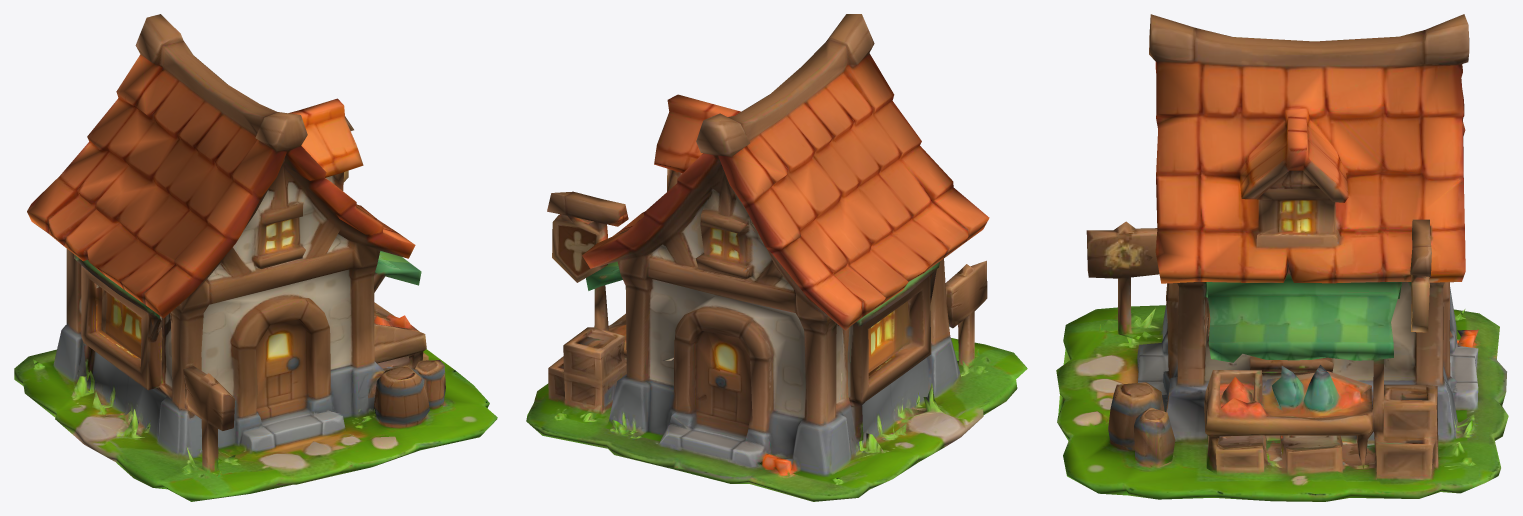
The model's file is Market.glb.
3 renders of one model, left to right at view 1: azimuth 30°, elevation 25°; view 2: azimuth 150°, elevation 25°; view 3: azimuth 270°, elevation 25°, orthographic. The views are drawn at different scales.
Visible parts, largest first — view 1: Mesh1.0; view 2: Mesh1.0; view 3: Mesh1.0.
Boxes of the visible parts, box(x1,y1,x2,y2) form: Mesh1.0: box(14, 14, 497, 501); Mesh1.0: box(526, 14, 1027, 501); Mesh1.0: box(1056, 14, 1508, 501).
Bounding box in the file's own units: 1.91 × 1.72 × 1.88.
Materials: 1 (1 with a texture image).
